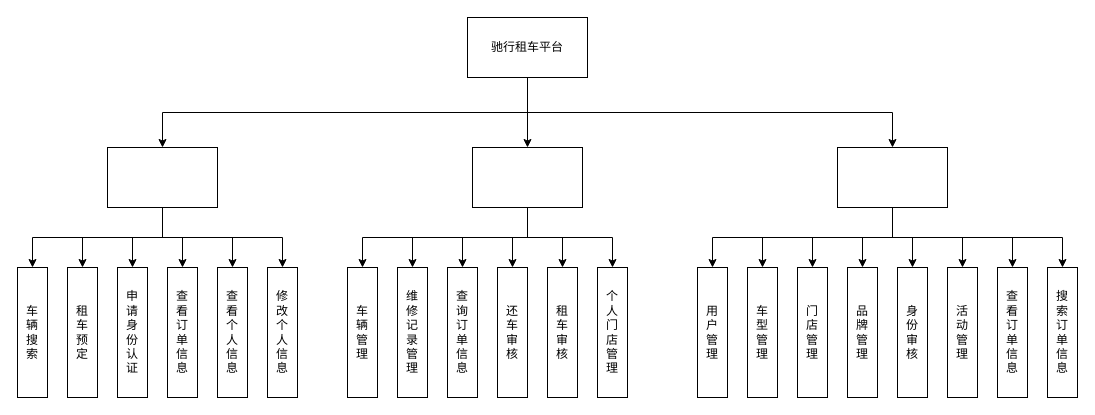
This 1095x415 diagram has some shape labels left out. The centre of each missing label's shape, as x and y in pixels:
"用户端" goes at (162,177).
"系统管理员端" goes at (892,177).
"门店管理员端" goes at (527,177).
